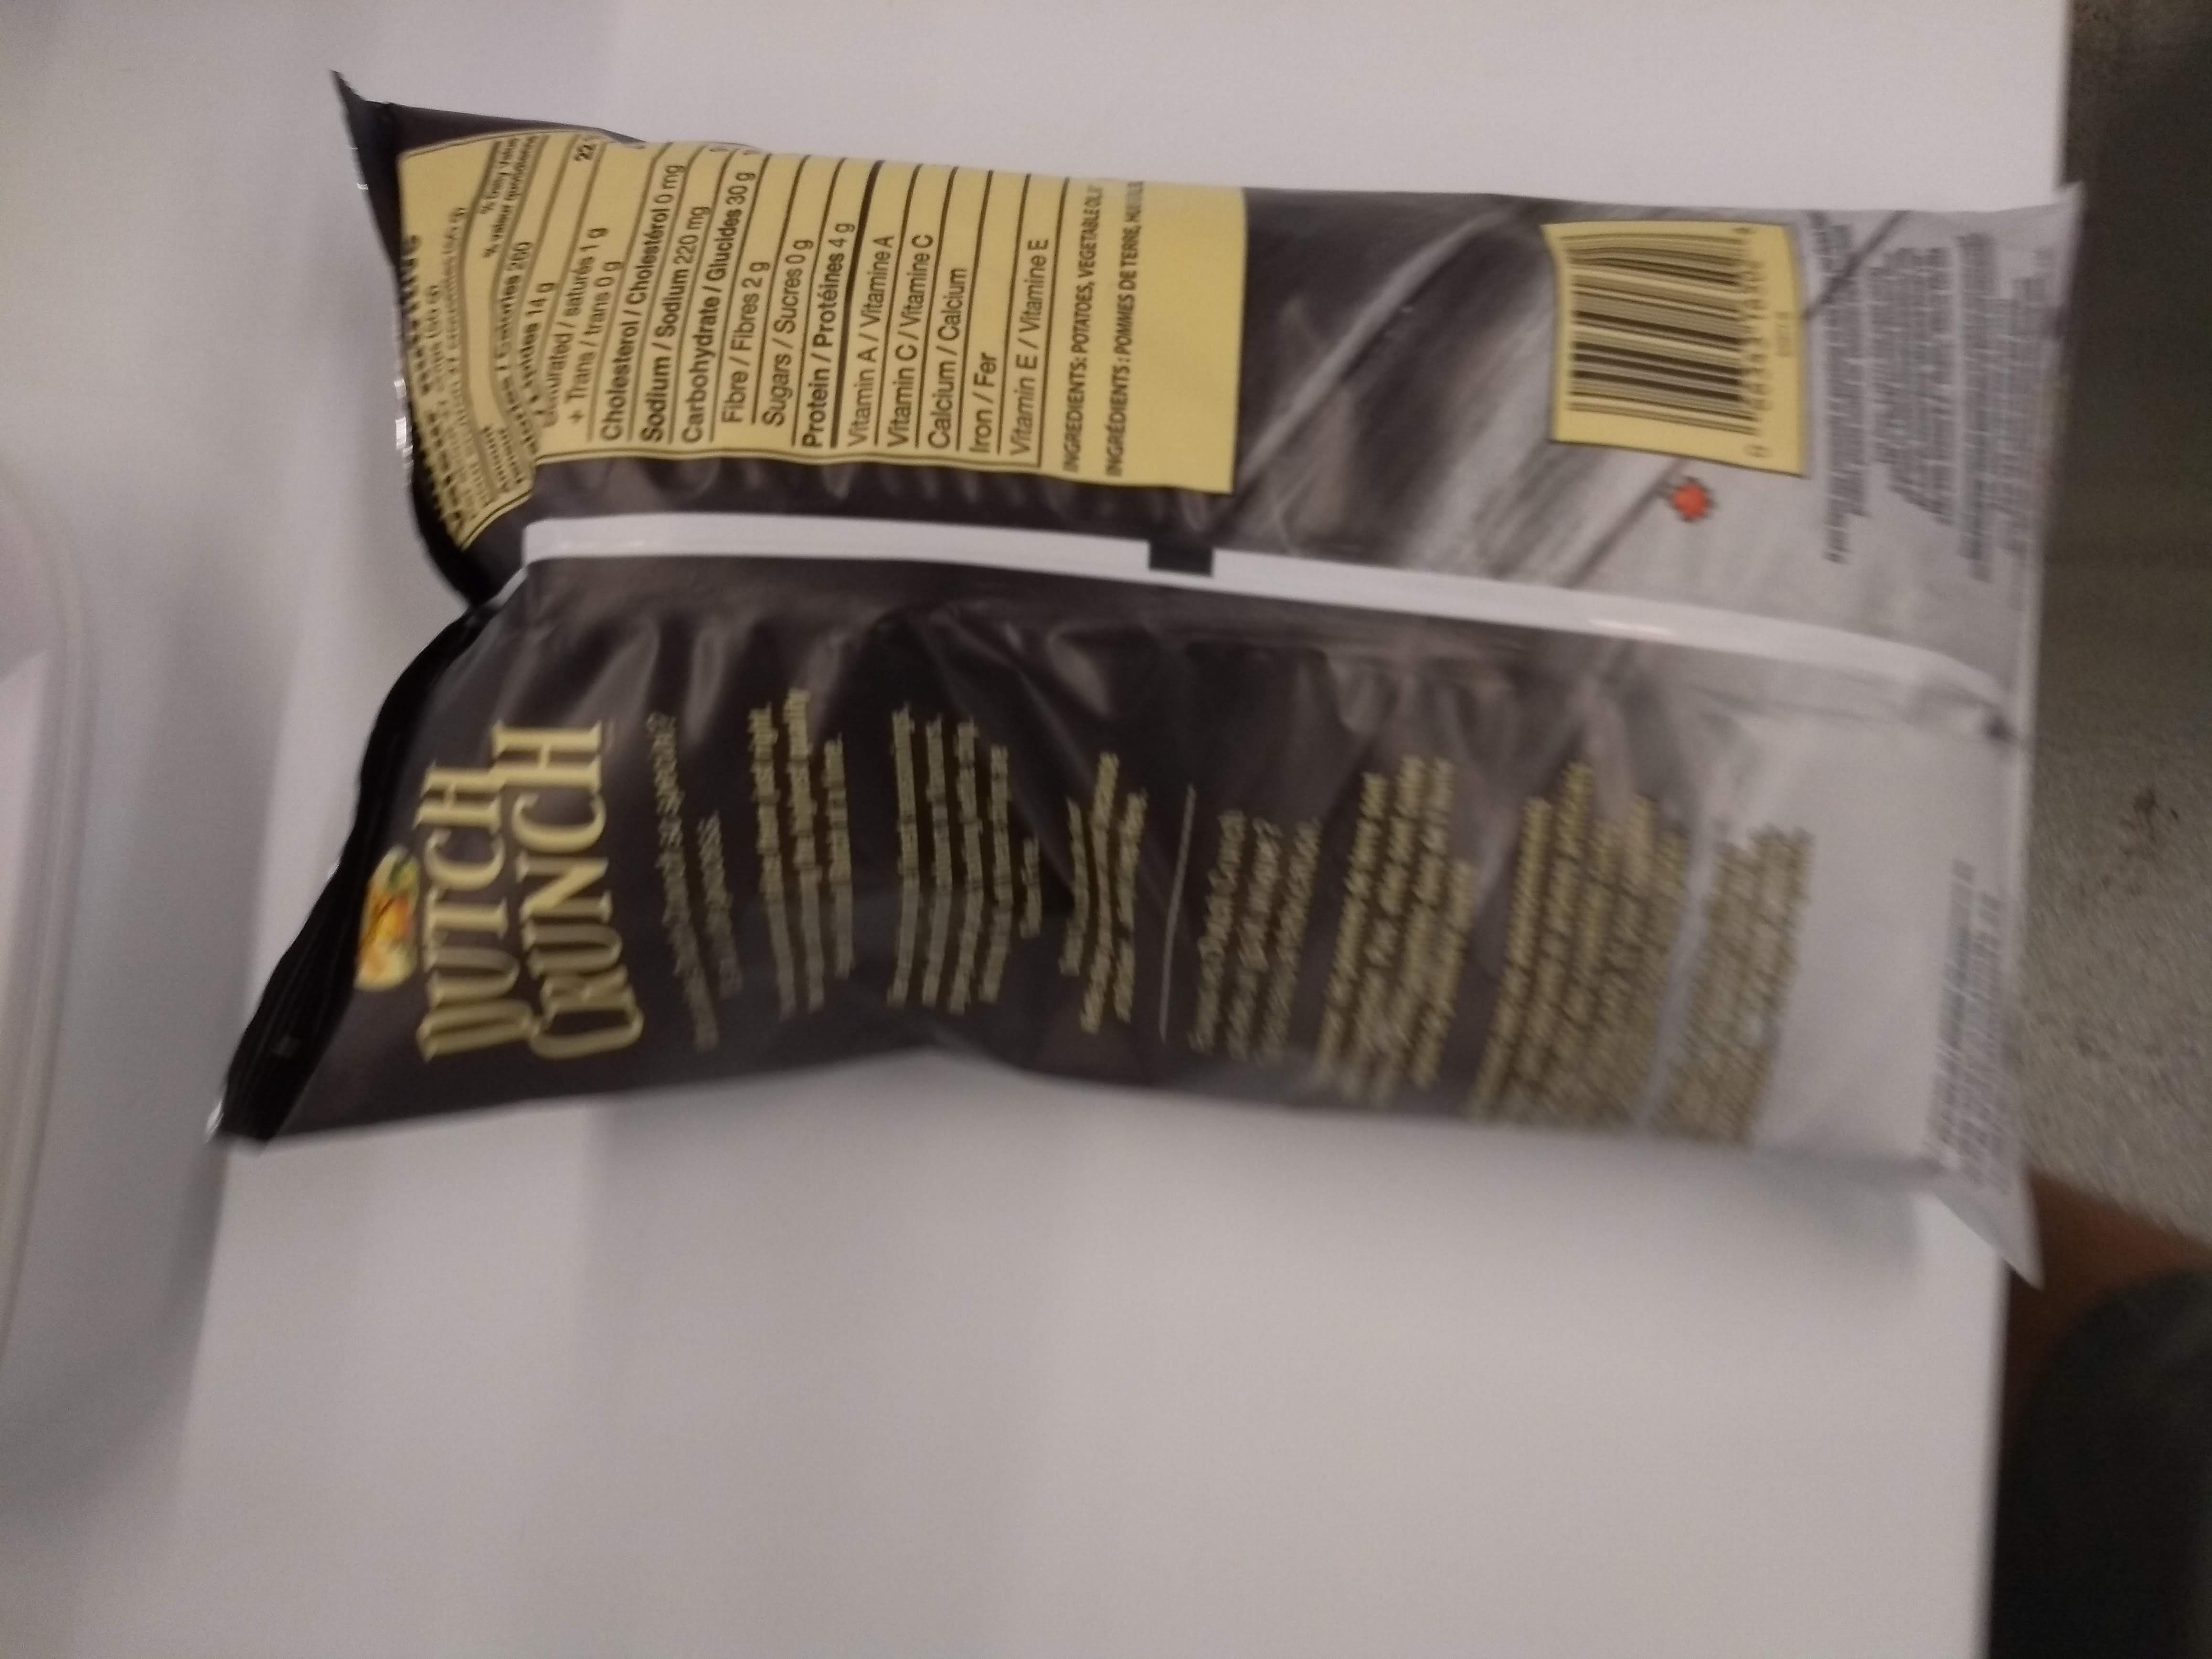potato_chips: (186, 64, 2137, 1309)
